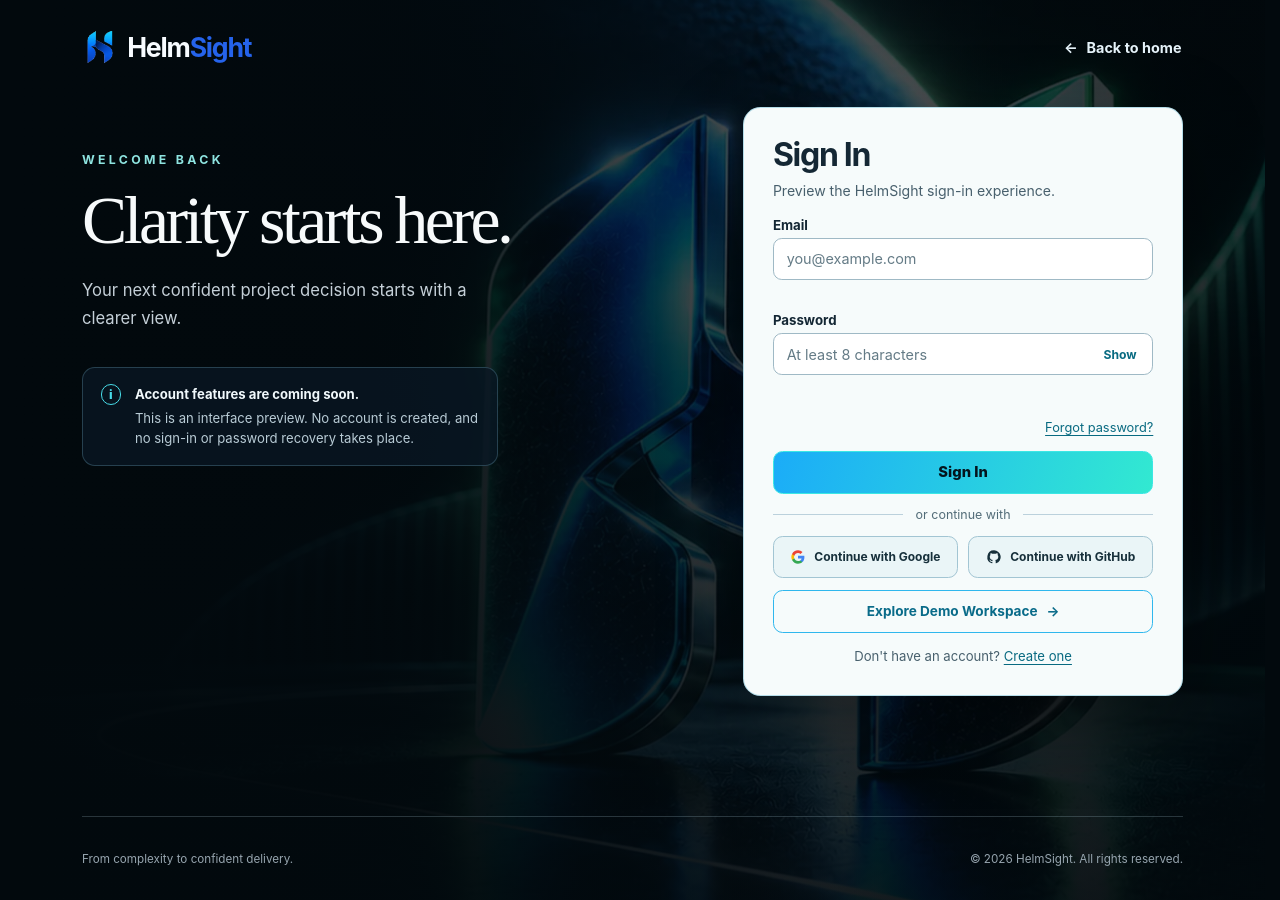
Auth UI Prototype › keeps the shared branding and changes narrative when navigating between auth screens
Expected: the heading "Clarity starts here." is shown, [82,186,530,255]
Expected: the link with aria-label "HelmSight home" is shown, [82,29,251,66]
Click the link "Create one" at (1038, 656), box [1004,648,1072,664]
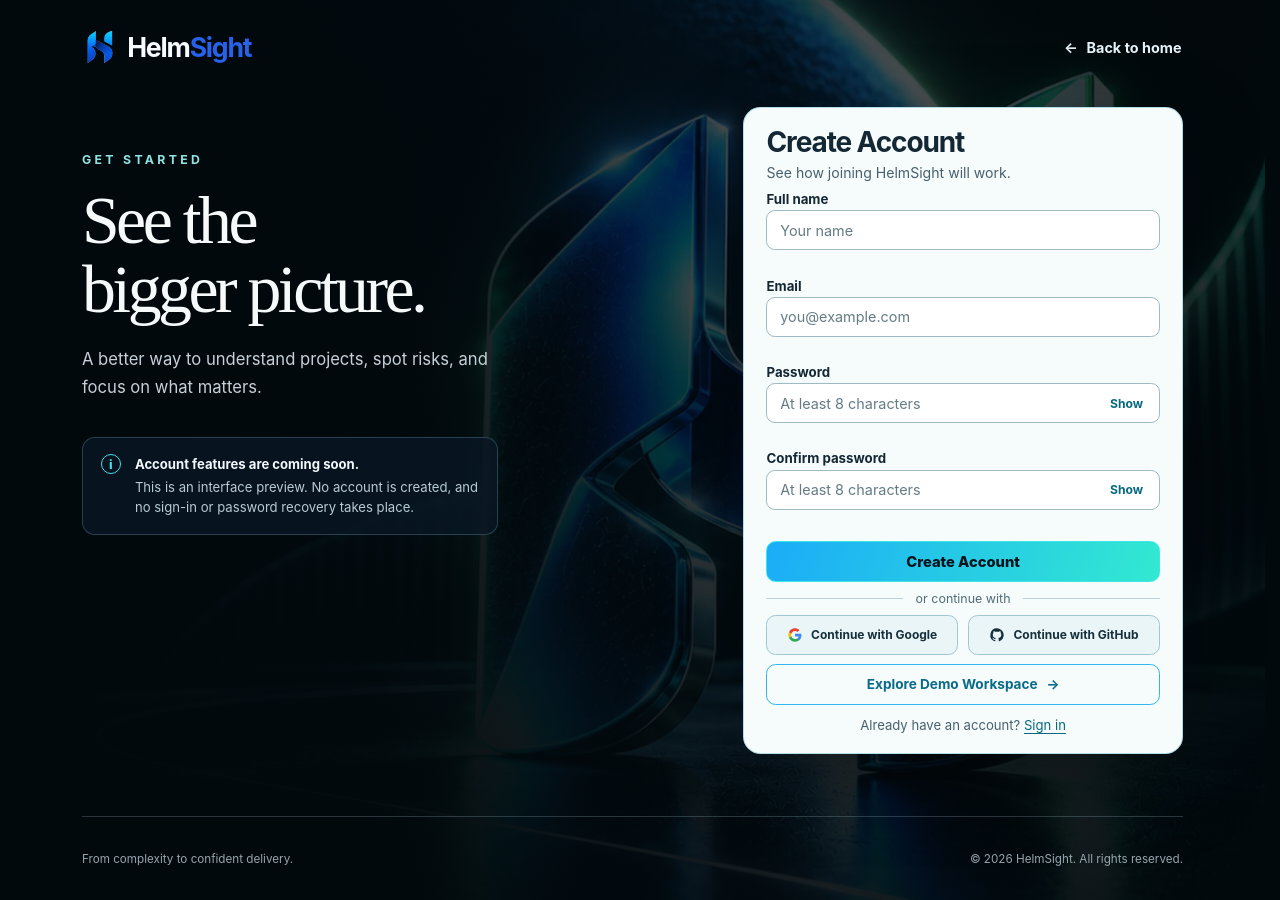
Expected: the link with aria-label "HelmSight home" is shown, [82,29,251,66]
Result: the heading "See the bigger picture." is shown at [82,183,424,327]
